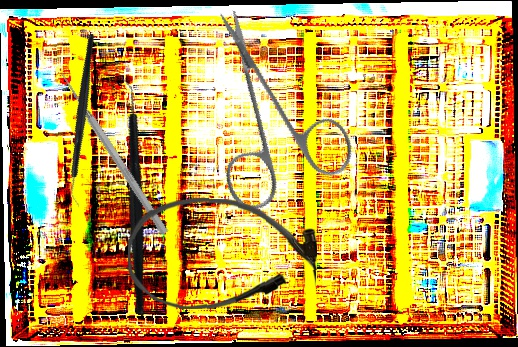Cannula: (126, 195, 319, 314)
Chopper: (48, 72, 214, 317), (16, 32, 153, 209)
Iris Scissors: (154, 6, 388, 237)
Pusher: (56, 69, 171, 237)
